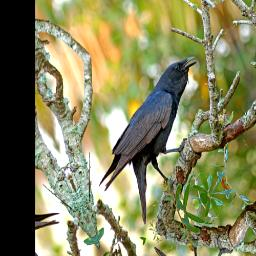Crow: (74, 49, 239, 243)
